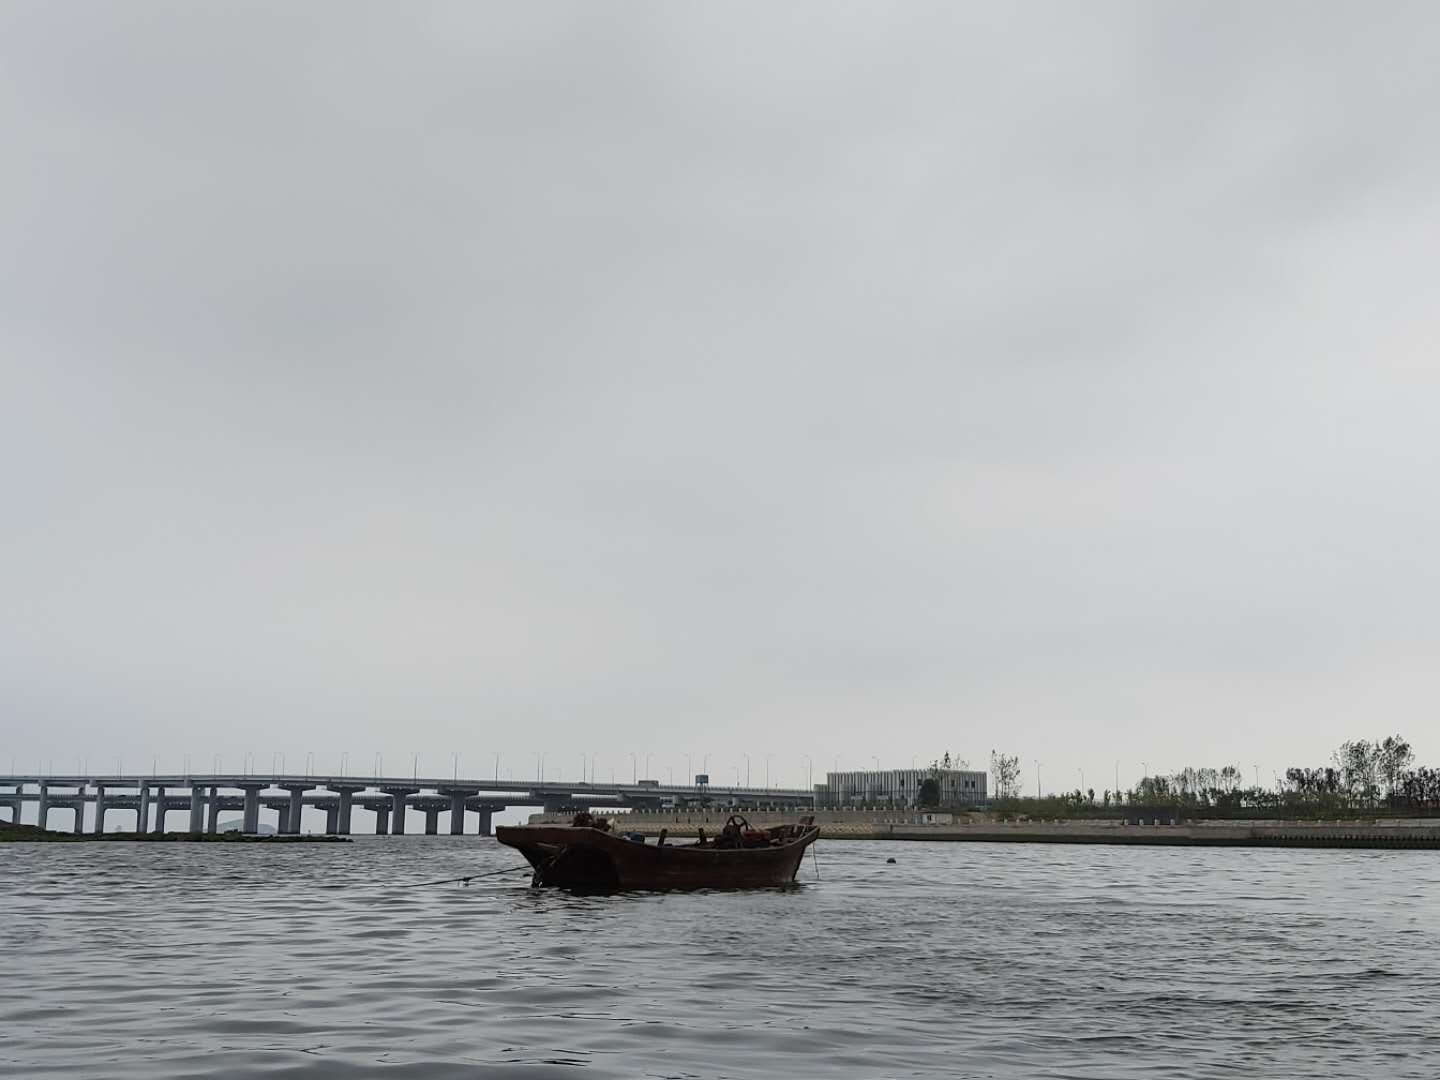ball: (884, 847, 904, 874)
boat: (488, 808, 835, 894)
bridge: (1, 758, 480, 836)
